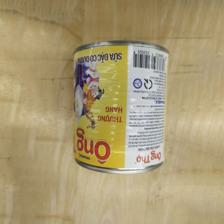Ong_tho: (71, 39, 168, 176)
